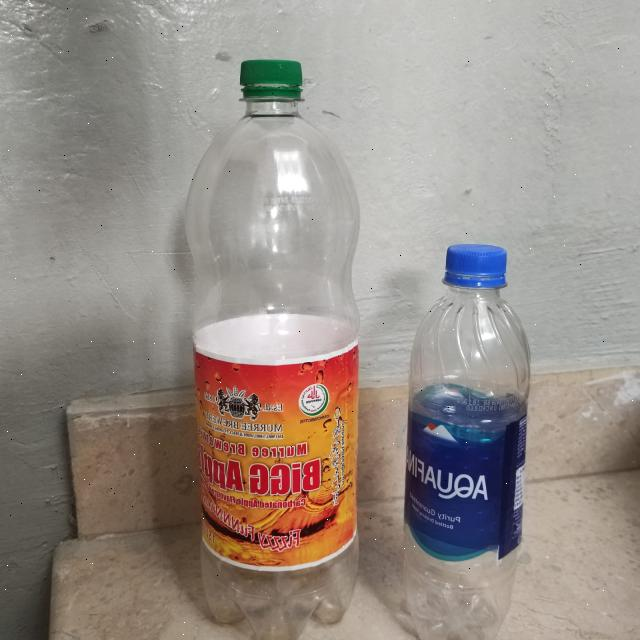bottle: (186, 55, 366, 636), (398, 242, 538, 640)
cap: (441, 242, 513, 292), (237, 60, 305, 106)
label: (196, 334, 361, 572), (408, 404, 531, 546)
